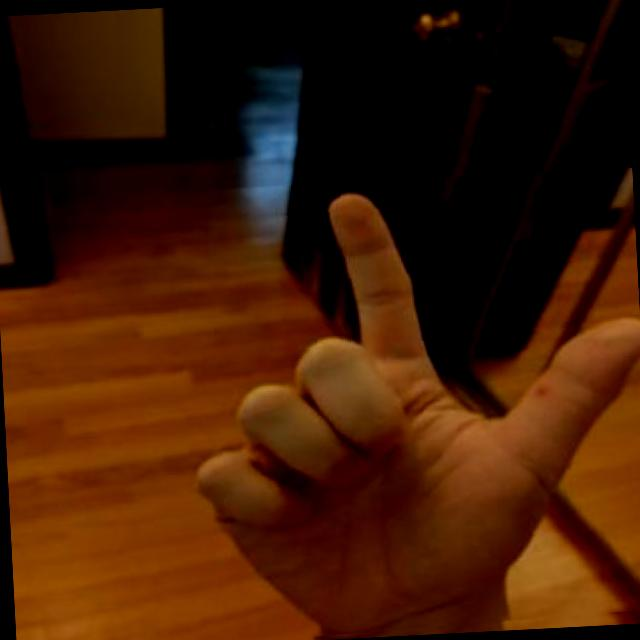L: (154, 167, 640, 640)
